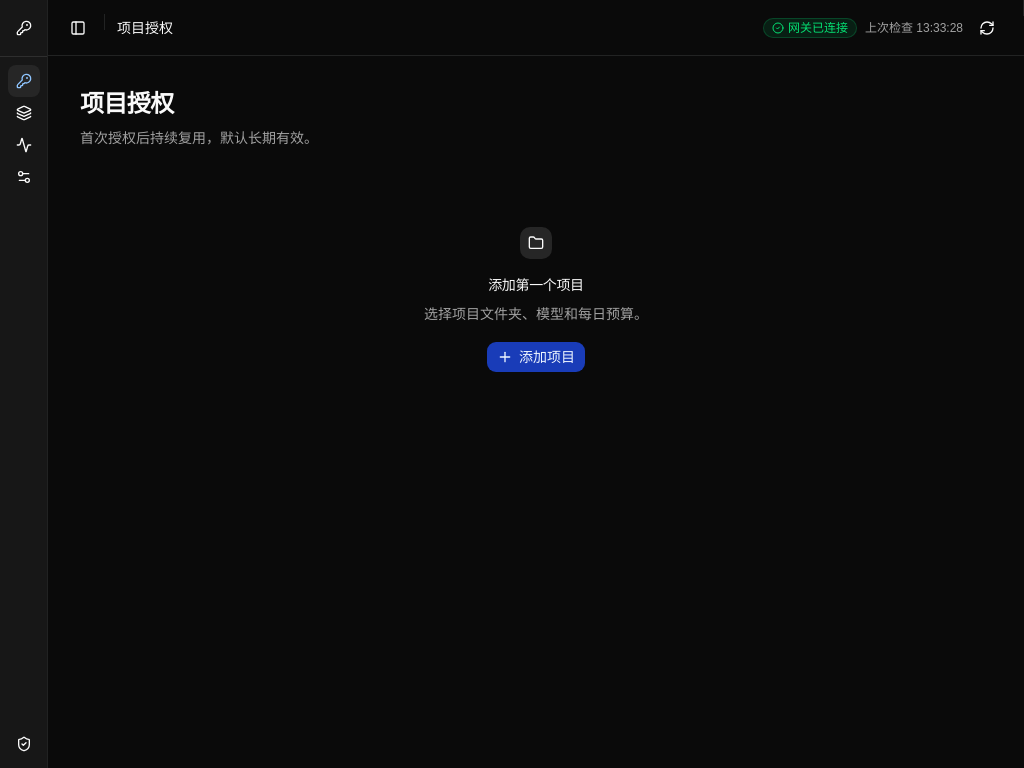
Test: authorization handoff › opens the saved project's Agent instructions even when refresh fails
Click the button "添加项目" at (536, 357), box [486,341,586,373]
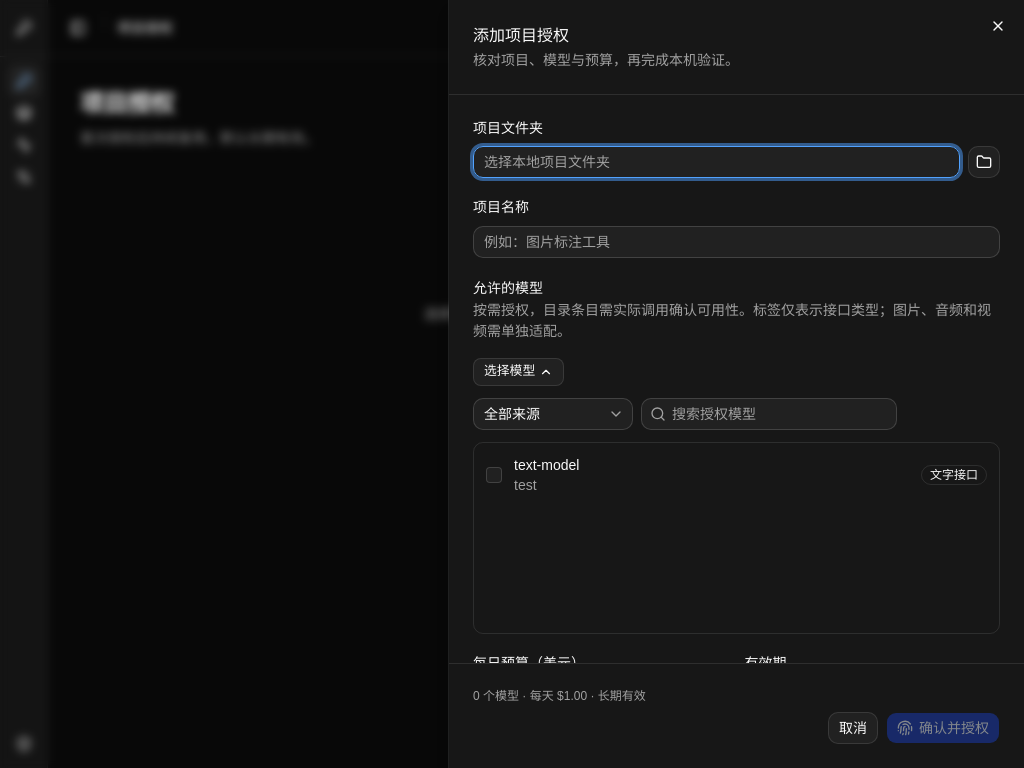
Type "C:\\test\\demo" into the field labelled "项目文件夹" at (716, 162), box [473,146,960,178]
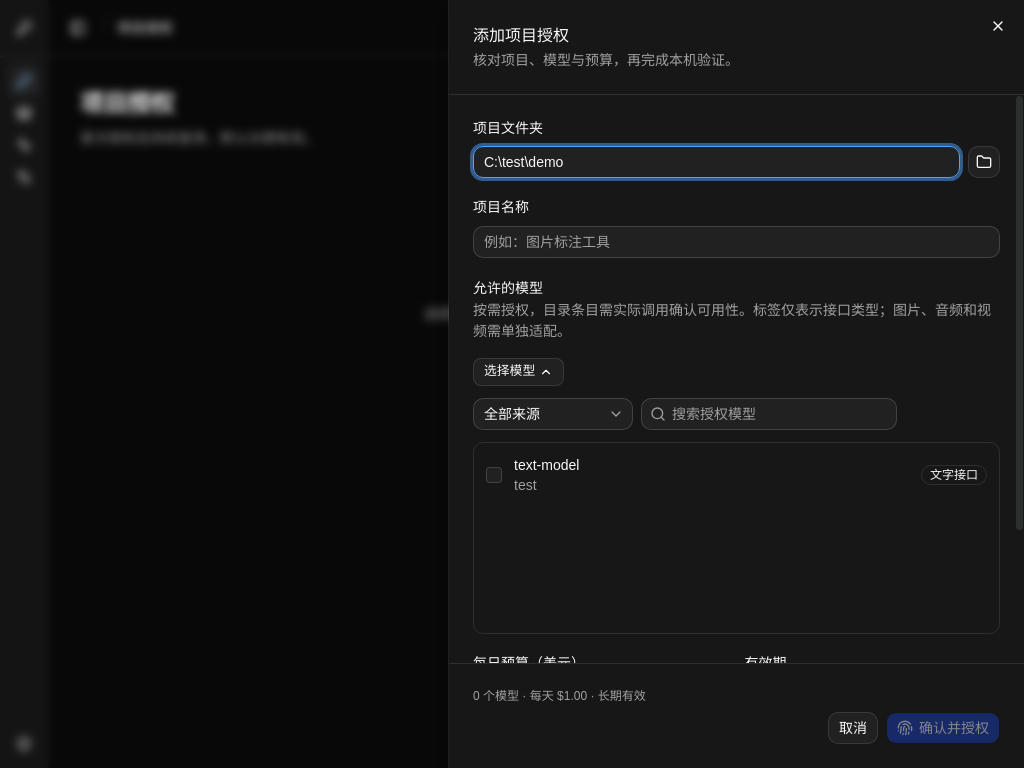
Type "Demo" into the field labelled "项目名称" at (736, 242), box [473,226,1000,258]
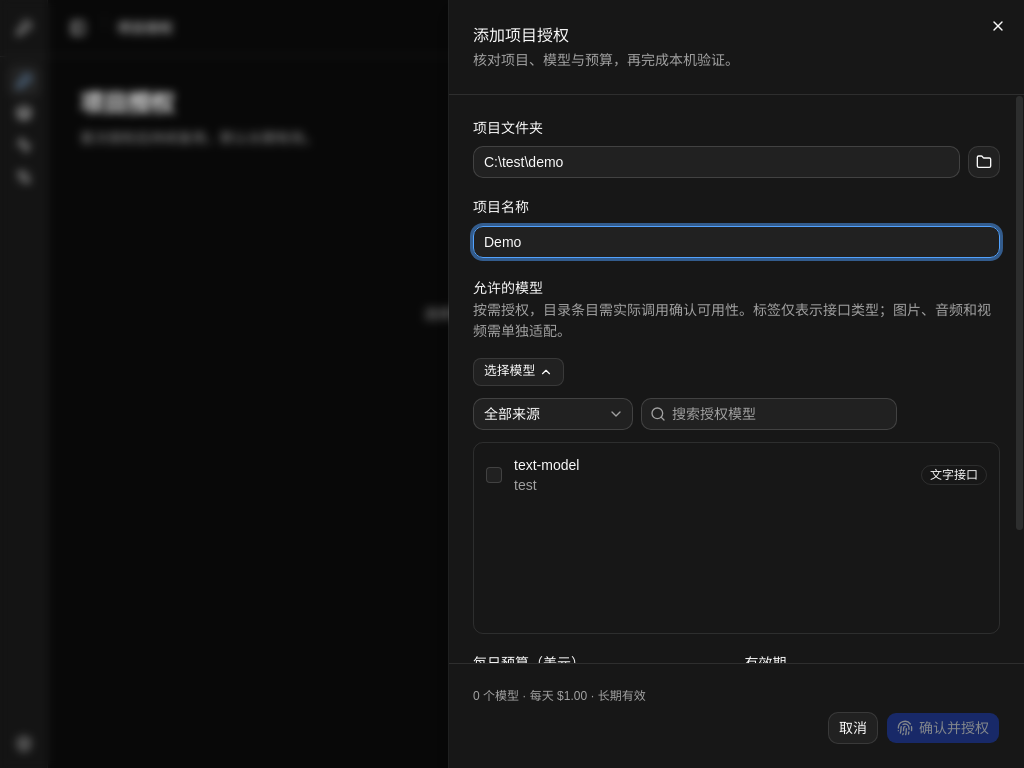
Click the checkbox named "text-model" at (494, 475), box [486,467,502,483]
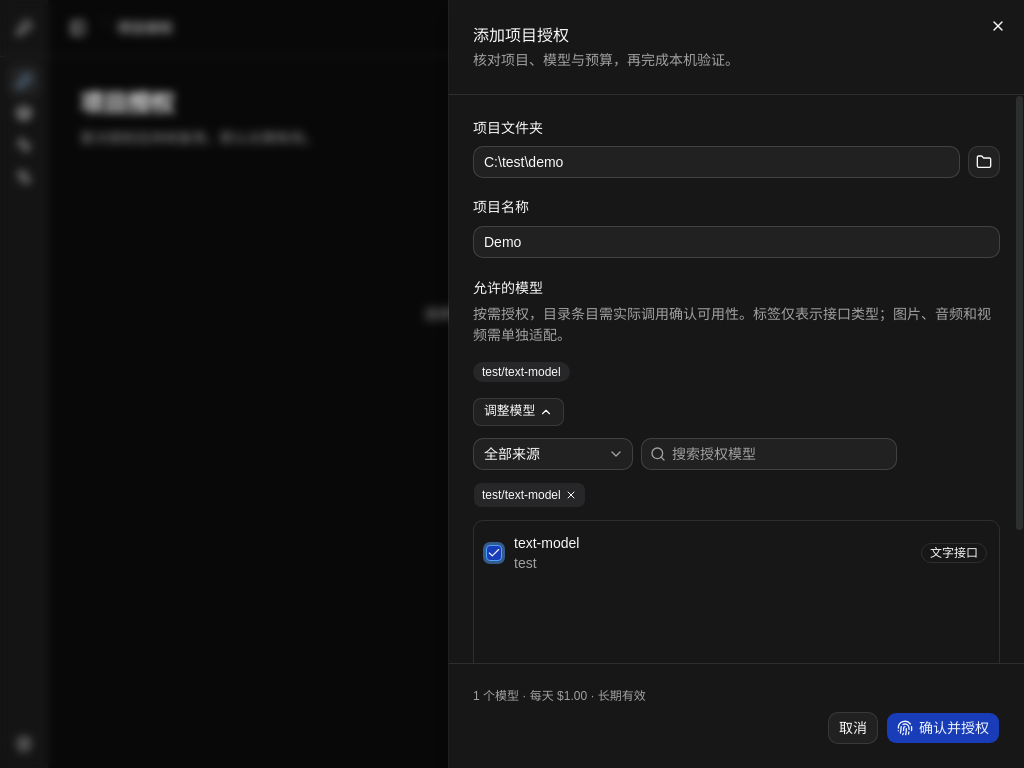
Click the button "确认并授权" at (943, 728), box [886,712,1000,744]
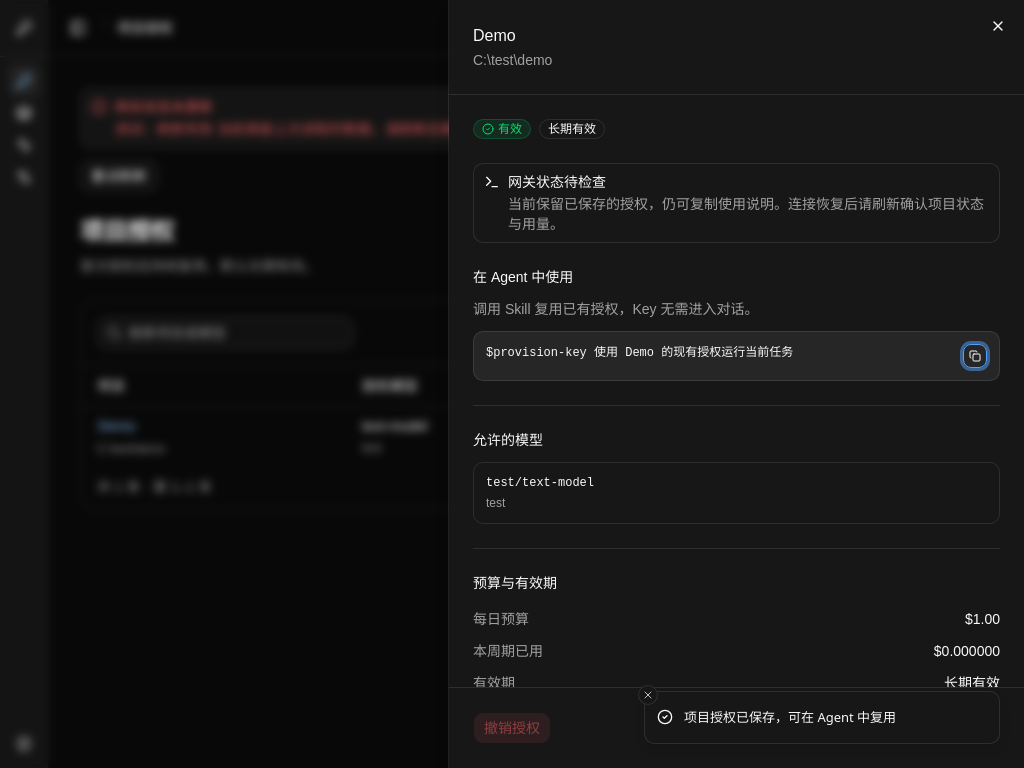
Expected: the heading "在 Agent 中使用" is shown, [473,269,573,285]
Expected: the text "$provision-key 使用 Demo 的现有授权运行当前任务" is shown, [486,346,793,360]
Expected: the text "网关状态待检查" is shown, [508,174,606,190]
